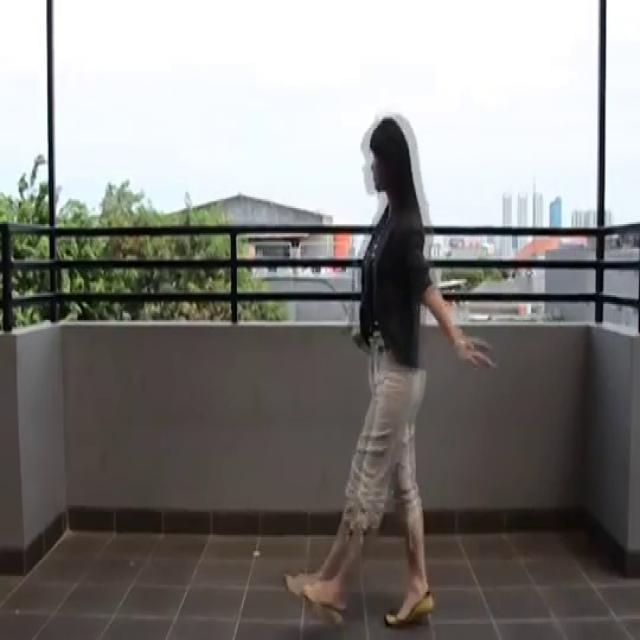normal: (282, 105, 467, 624)
